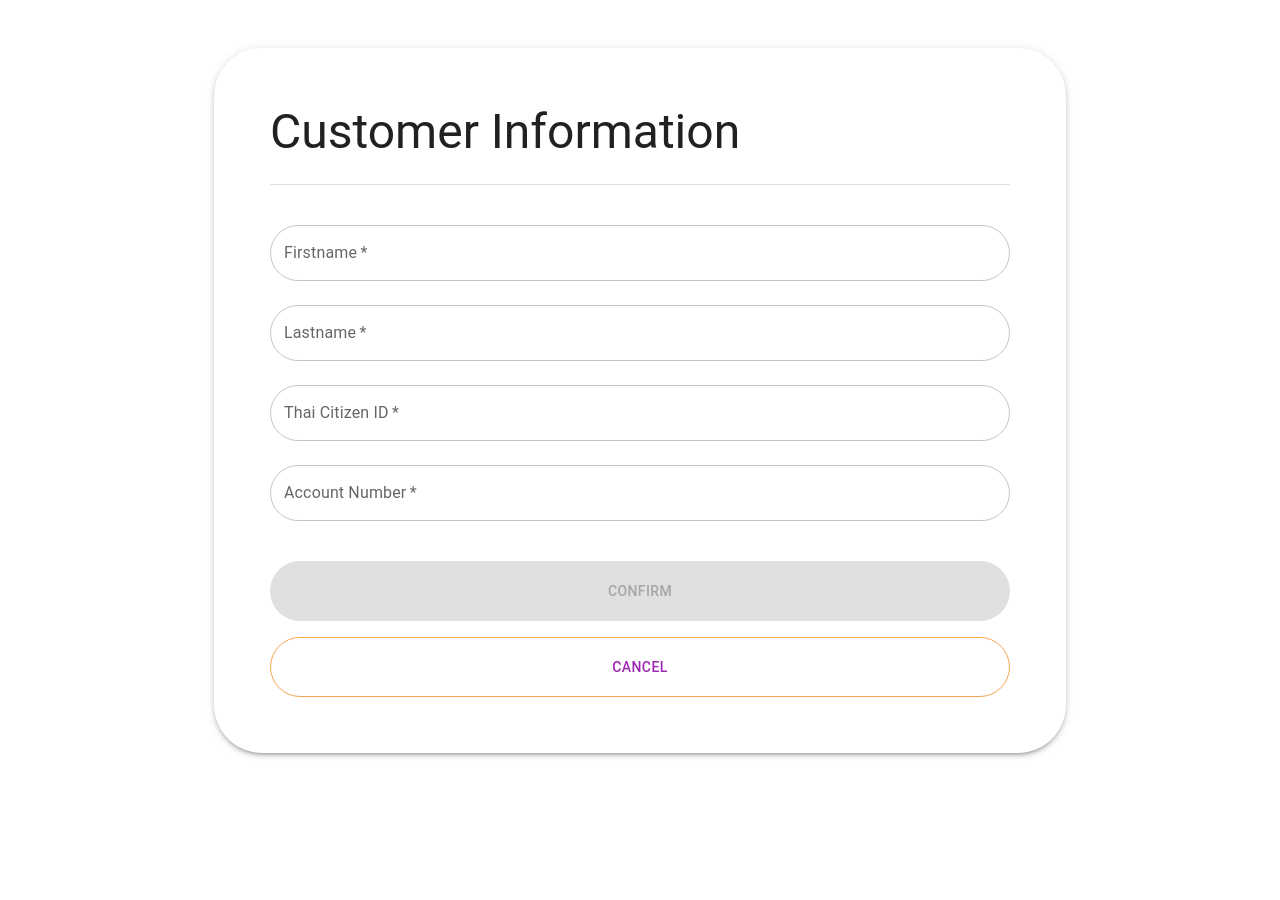
CustomerInfo Page › opens cancel dialog when clicking Cancel
Click the button "Cancel" at (640, 667), box [270, 637, 1010, 697]
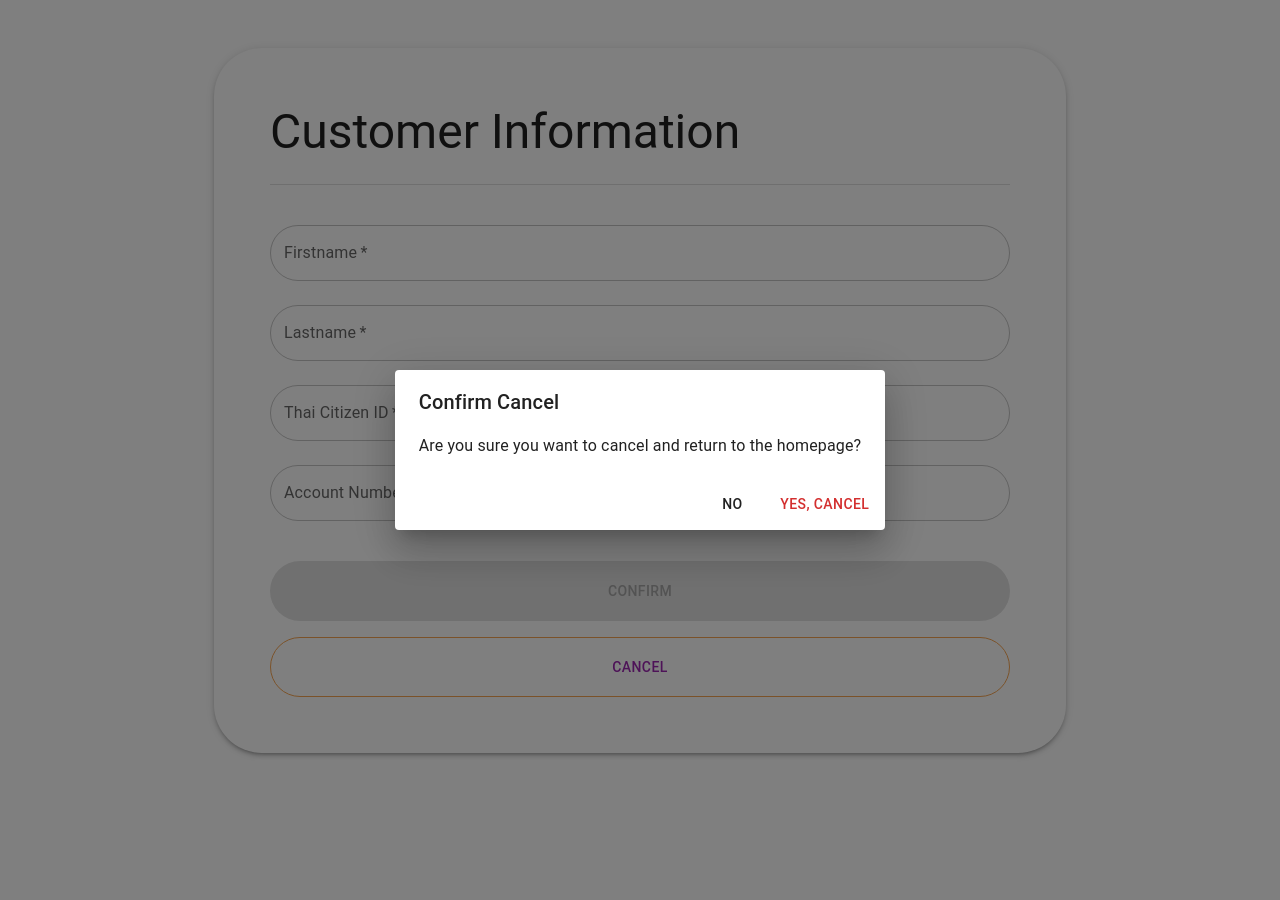
expect the text "Are you sure you want to cancel and return to the homepage?" is shown: met, box [419, 434, 861, 458]
